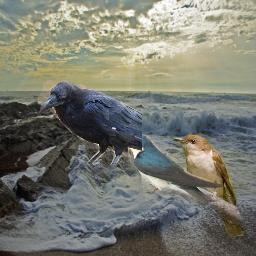Crow: (38, 79, 142, 165)
Cuckoo: (171, 132, 244, 238)
Swallow: (124, 134, 223, 205)
